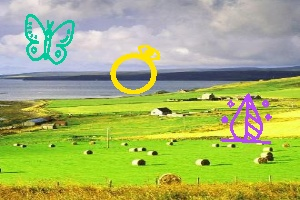竹笋模型: (220, 92, 275, 145)
蝴蝶: (25, 13, 73, 65)
钻戒: (110, 44, 162, 95)
